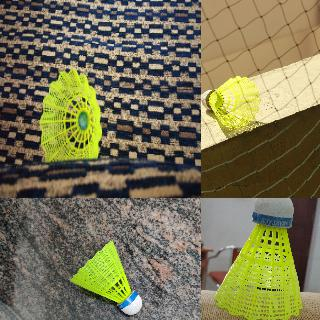shuttlecock: (213, 198, 304, 319), (40, 68, 101, 161), (69, 242, 141, 314), (201, 76, 260, 129)
